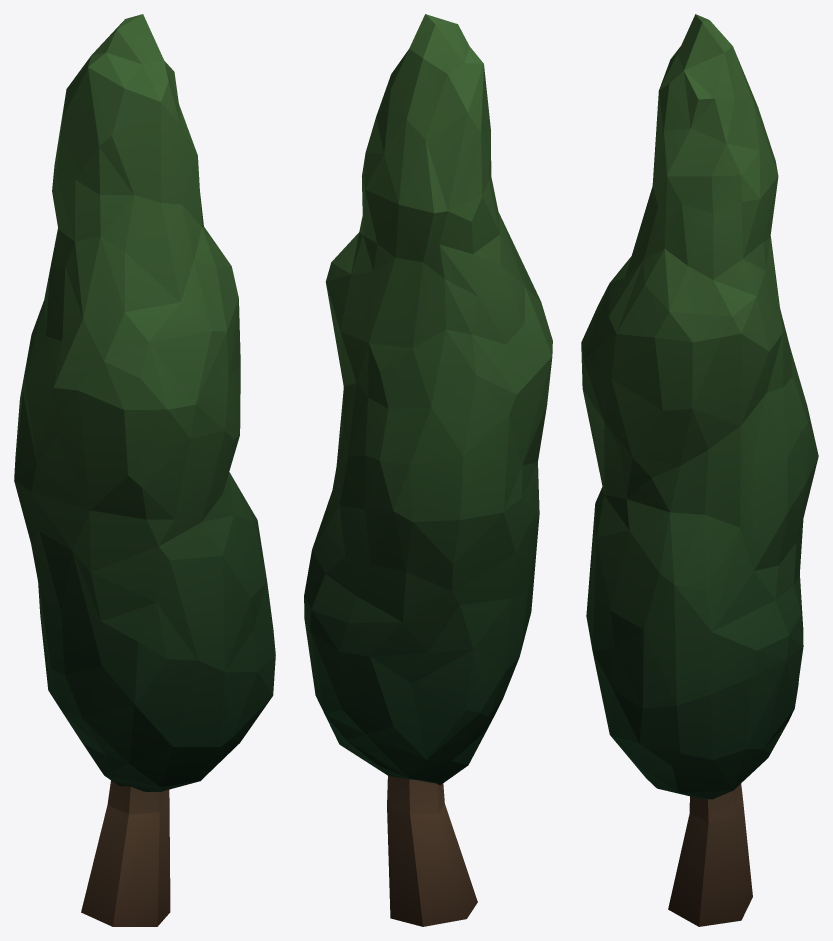
Rendered from cyprys_3.glb.
3 renders of one model, left to right at view 1: azimuth 30°, elevation 25°; view 2: azimuth 150°, elevation 25°; view 3: azimuth 270°, elevation 25°, orthographic.
Visible parts, largest first — view 1: cyprys_3; view 2: cyprys_3; view 3: cyprys_3.
Boxes of the visible parts, x1,y1,x2,y2 form: cyprys_3: (14,14,275,926); cyprys_3: (304,14,552,926); cyprys_3: (581,14,818,926).
Size of the model in its own units: 0.6064 by 2.31 by 0.5581.
